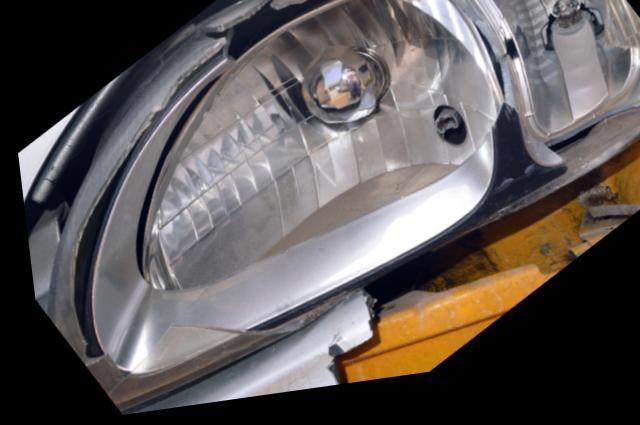lamp broken: (34, 0, 640, 407)
no part: (331, 142, 640, 392)
